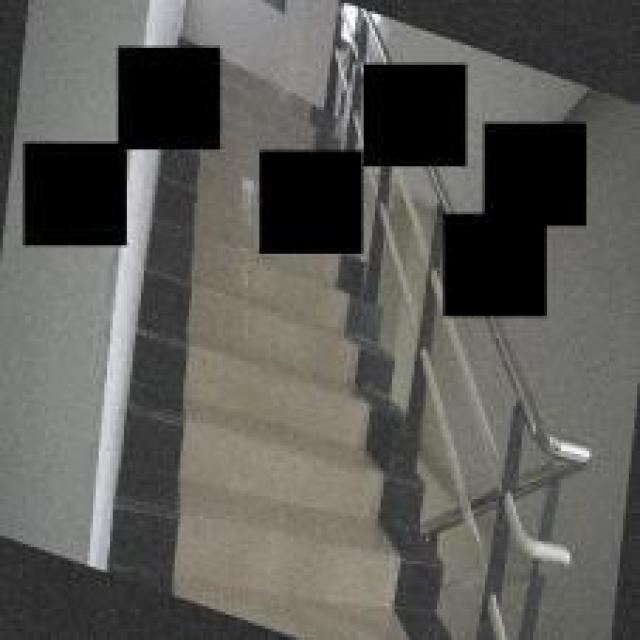upstair: (111, 266, 438, 638)
